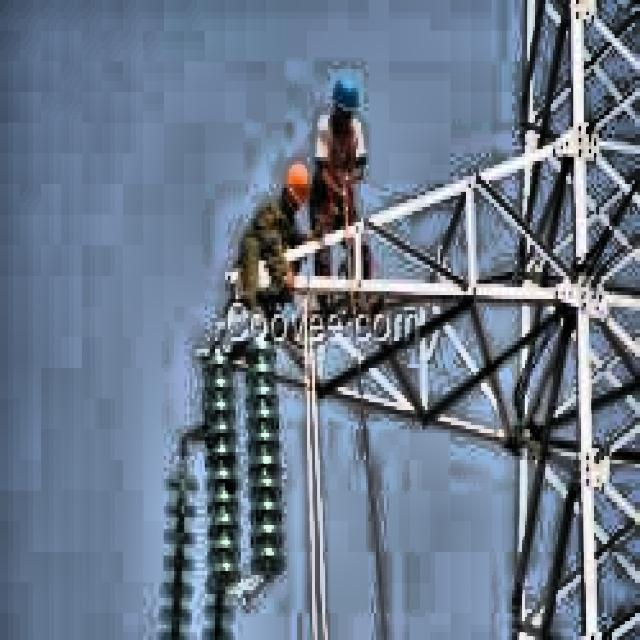helmet: (330, 73, 364, 142), (277, 164, 307, 214)
